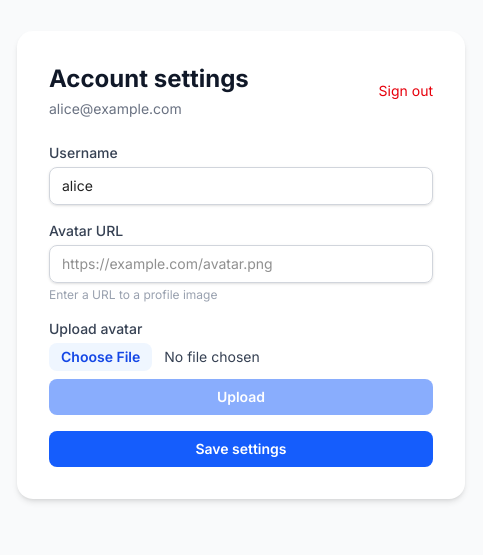
Test: SettingsPage › shows success message after successful PUT
Expected: the field labelled "Username" is shown, left=49, top=167, right=433, bottom=205
Click the button "Save settings" at (241, 449), box left=49, top=431, right=433, bottom=467
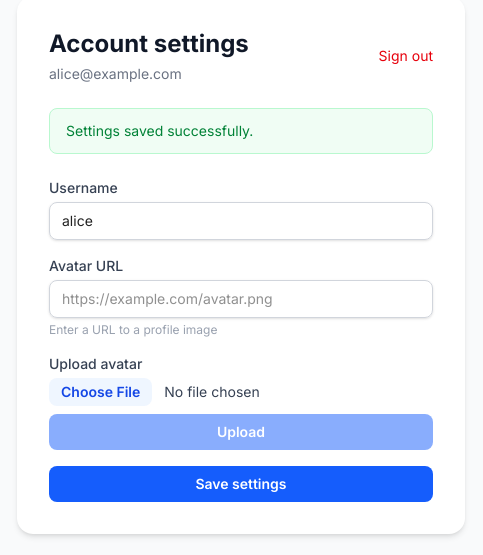
Now the message shows "Settings saved successfully", box left=66, top=122, right=253, bottom=139
